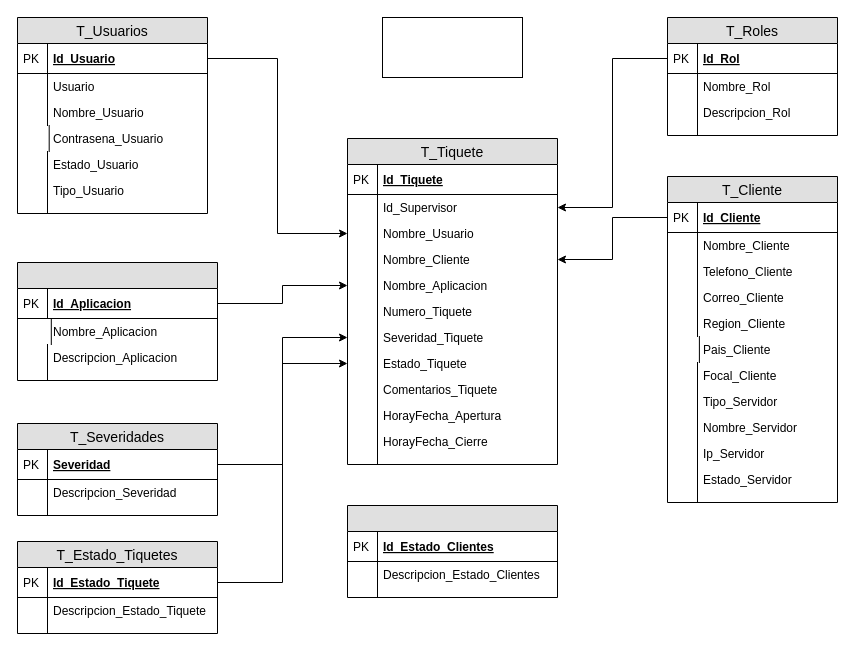
Some shapes in this 855 by 651 pixel diagram are drawn without their labels. Each missing label, with the box of its shape:
DB_Tiquetes: (382, 16, 522, 78)
T_Aplicacion: (16, 262, 218, 380)
T_Estado_Clientes: (346, 504, 558, 598)
